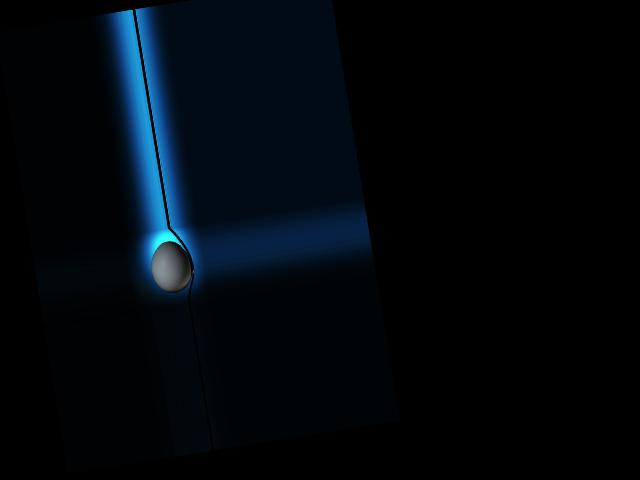egg: (148, 238, 195, 295)
